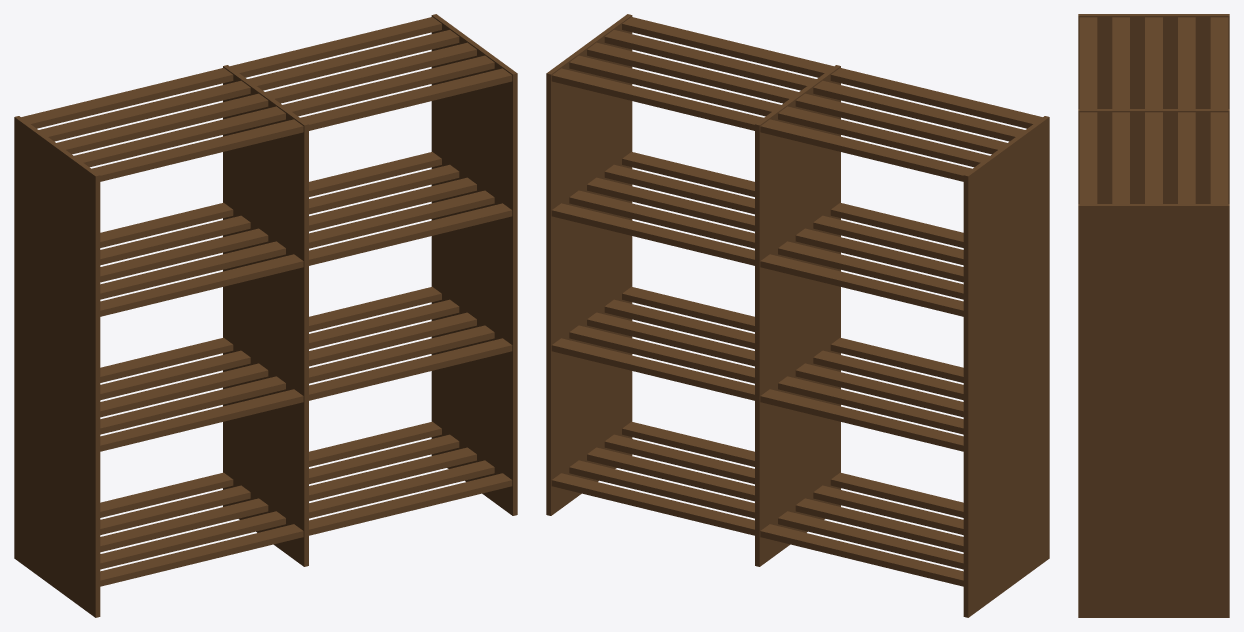
The model's file is parametric-rack-1st.glb.
3 views of the same model, side by side, from view 1: azimuth 30°, elevation 25°; view 2: azimuth 150°, elevation 25°; view 3: azimuth 270°, elevation 25° (orthographic). The views are drawn at different scales.
Parts seen in each view (by area): view 1: parametric-rack-1st; view 2: parametric-rack-1st; view 3: parametric-rack-1st.
Part boxes in pixels (x1,y1,x2,y2): parametric-rack-1st: [14, 14, 517, 617]; parametric-rack-1st: [546, 14, 1049, 617]; parametric-rack-1st: [1078, 14, 1229, 617].
Size of the model in its own units: 1.8 by 1.8 by 0.6.
